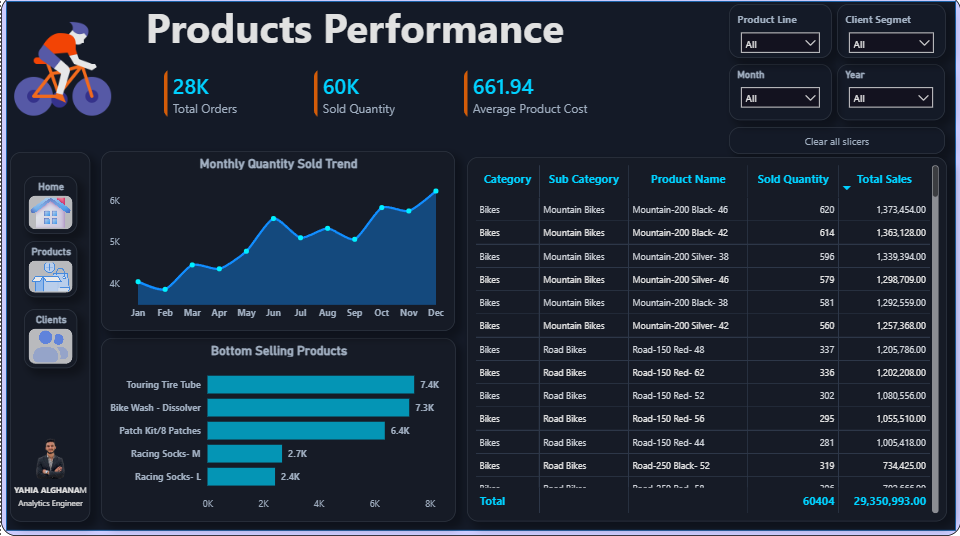

The page's visual inventory and layout, read from the dashboard file:
{"tool":"powerbi","page":{"name":"Products","canvas":[1280,720],"ordinal":1},"visuals":[{"type":"shape","box":[0,0,1280,719.8],"z":0},{"type":"textbox","box":[188,0,865.3,86.7],"z":1000},{"type":"shape","box":[12.4,207.8,107.4,492.7],"z":2000},{"type":"cardVisual","fields":{"Data":["fact_sales.Total Orders"]},"box":[200,80,220.2,100],"z":3000},{"type":"cardVisual","fields":{"Data":["fact_sales.Sold Quantity"]},"box":[400,80,220,100],"z":4000},{"type":"barChart","title":"Bottom Selling Products","fields":{"Y":["Sum(fact_sales.sales_amount)"],"Category":["dim_products.product_name"]},"box":[133.7,455.5,473.2,244.9],"z":5000},{"type":"areaChart","title":"Monthly Quantity Sold Trend","fields":{"Category":["dim_date.order_month"],"Y":["Sum(fact_sales.quantity)"]},"box":[133.7,207,472,240.1],"z":6000},{"type":"actionButton","title":"Home","box":[31.1,240.3,70.8,77.3],"z":7000},{"type":"slicer","title":"Year","fields":{"Values":["dim_date.order_year"]},"box":[1114.7,90.7,144,74.7],"z":8000},{"type":"slicer","title":"Month","fields":{"Values":["dim_date.order_month"]},"box":[970.7,90.7,137.3,74.7],"z":9000},{"type":"actionButton","title":"Products","box":[31.1,327.2,70.8,75.1],"z":10000},{"type":"actionButton","title":"Clients","box":[31.1,417.4,70.8,79.4],"z":11000},{"type":"image","box":[12.7,0,138.1,194.5],"z":12000},{"type":"slicer","fields":{"Values":["dim_products.product_line"]},"box":[970.7,10.7,137.3,72],"z":13000},{"type":"slicer","fields":{"Values":["dim_customers.customer_segment"]},"box":[1114.7,10.7,145.3,72],"z":14000},{"type":"cardVisual","fields":{"Data":["Avg(dim_products.cost)"]},"box":[600,80,220,100],"z":15000},{"type":"actionButton","box":[970.7,174.7,288,36],"z":16000},{"type":"tableEx","fields":{"Values":["dim_products.category","dim_products.sub_category","dim_products.product_name","fact_sales.Sold Quantity","fact_sales.Total Sales"]},"box":[620.7,214.7,640,485.8],"z":17000},{"type":"image","box":[25.3,582.7,81.3,61.3],"z":17001},{"type":"textbox","box":[12,644,108,48],"z":17002}]}

Visuals, with their boxes in screenshot pixels (x1, y1, x2, y2), scaled from the page's 1280x720 canvas onto the 960x536 screenshot:
shape: BBox(0, 0, 959, 535)
textbox: BBox(141, 0, 790, 65)
shape: BBox(9, 155, 90, 521)
cardVisual - fact_sales.Total Orders: BBox(150, 60, 315, 134)
cardVisual - fact_sales.Sold Quantity: BBox(300, 60, 465, 134)
"Bottom Selling Products" barChart: BBox(100, 339, 455, 521)
"Monthly Quantity Sold Trend" areaChart: BBox(100, 154, 454, 333)
"Home" actionButton: BBox(23, 179, 76, 236)
"Year" slicer: BBox(836, 68, 944, 123)
"Month" slicer: BBox(728, 68, 831, 123)
"Products" actionButton: BBox(23, 244, 76, 299)
"Clients" actionButton: BBox(23, 311, 76, 370)
image: BBox(10, 0, 113, 145)
slicer - dim_products.product_line: BBox(728, 8, 831, 62)
slicer - dim_customers.customer_segment: BBox(836, 8, 945, 62)
cardVisual - Avg(dim_products.cost): BBox(450, 60, 615, 134)
actionButton: BBox(728, 130, 944, 157)
tableEx - dim_products.category x dim_products.sub_category: BBox(466, 160, 946, 521)
image: BBox(19, 434, 80, 479)
textbox: BBox(9, 479, 90, 515)
